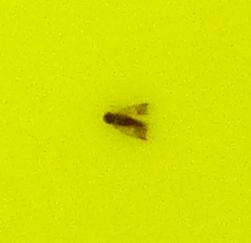Hemiptera: (100, 100, 151, 143)
